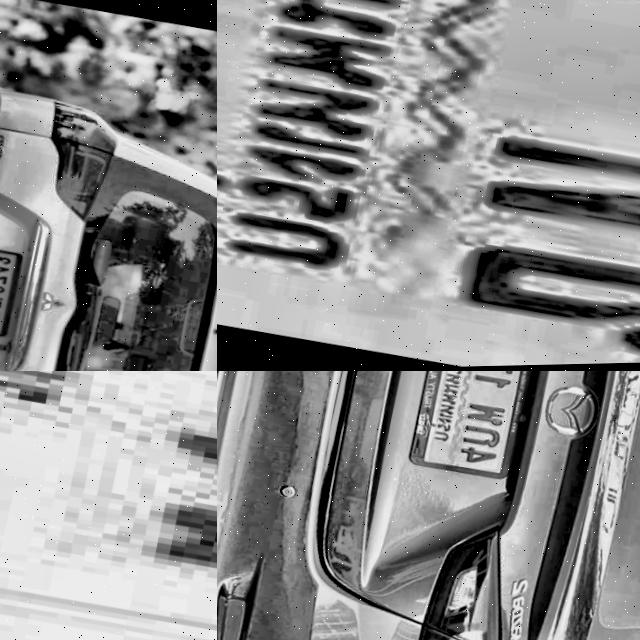license-plate: (217, 0, 640, 371), (0, 371, 217, 640), (405, 371, 543, 486), (0, 239, 30, 343)
